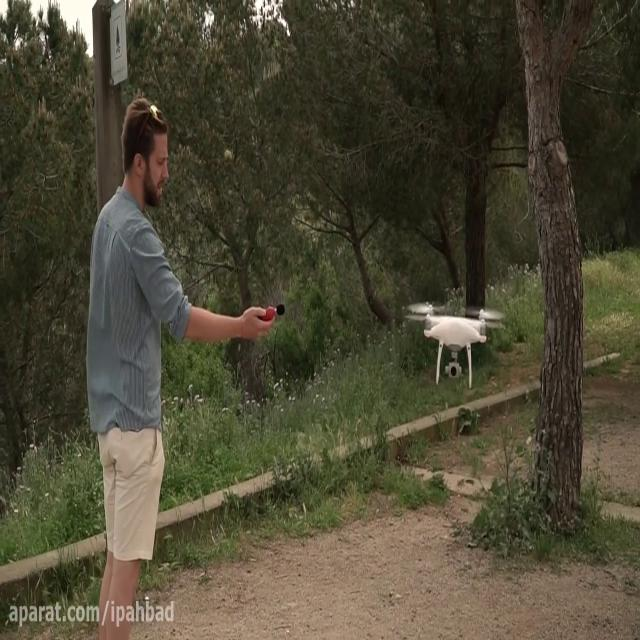drone: (403, 298, 508, 386)
